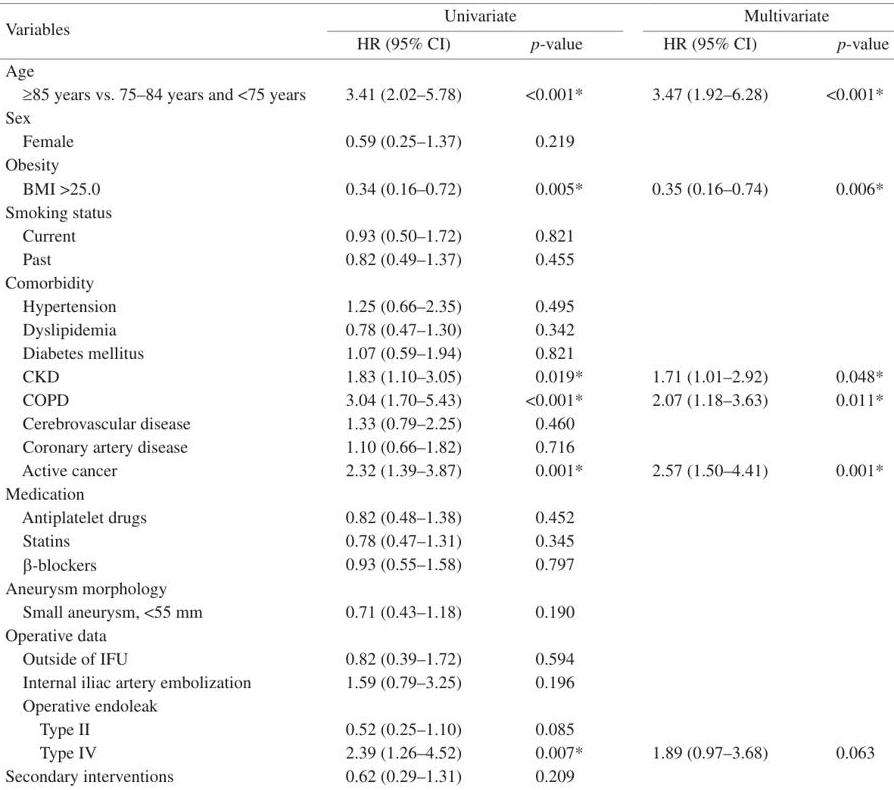table: (4, 4, 888, 785)
table column: (4, 4, 325, 785), (617, 4, 796, 785), (325, 4, 493, 785), (493, 4, 617, 785), (796, 4, 888, 785)
table column header: (4, 4, 888, 56)
table projected row header: (4, 56, 888, 80), (4, 269, 888, 293), (4, 575, 888, 599), (4, 622, 888, 646), (4, 105, 888, 128), (4, 152, 888, 175), (4, 199, 888, 222), (4, 481, 888, 504), (4, 693, 888, 716)
table row: (4, 28, 888, 56), (4, 80, 888, 105), (4, 4, 888, 28), (4, 56, 888, 80), (4, 128, 888, 152), (4, 175, 888, 199), (4, 222, 888, 246), (4, 269, 888, 293), (4, 316, 888, 340), (4, 363, 888, 387), (4, 410, 888, 434), (4, 457, 888, 481), (4, 504, 888, 528), (4, 551, 888, 575), (4, 575, 888, 599), (4, 622, 888, 646), (4, 669, 888, 693), (4, 716, 888, 740), (4, 105, 888, 128), (4, 152, 888, 175), (4, 199, 888, 222), (4, 246, 888, 269), (4, 293, 888, 316), (4, 340, 888, 363), (4, 387, 888, 410), (4, 434, 888, 457), (4, 481, 888, 504), (4, 528, 888, 551), (4, 599, 888, 622), (4, 646, 888, 669), (4, 693, 888, 716), (4, 740, 888, 763), (4, 763, 888, 785)
table spanning cell: (4, 4, 325, 56), (325, 4, 617, 28), (617, 4, 888, 28)
